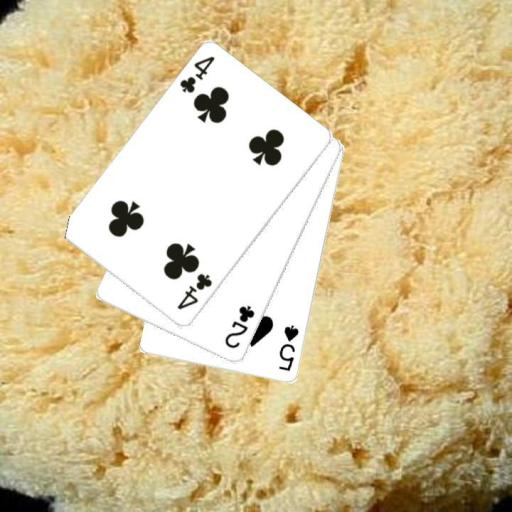2C: (221, 302, 257, 351)
4C: (176, 54, 217, 96), (174, 271, 214, 312)
5S: (276, 322, 301, 373)
